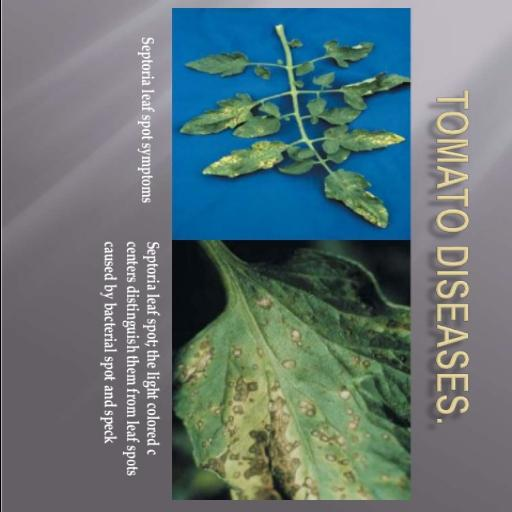Septoria: (172, 252, 410, 500), (320, 168, 390, 230), (202, 139, 290, 181), (178, 92, 256, 136), (320, 122, 406, 155)
